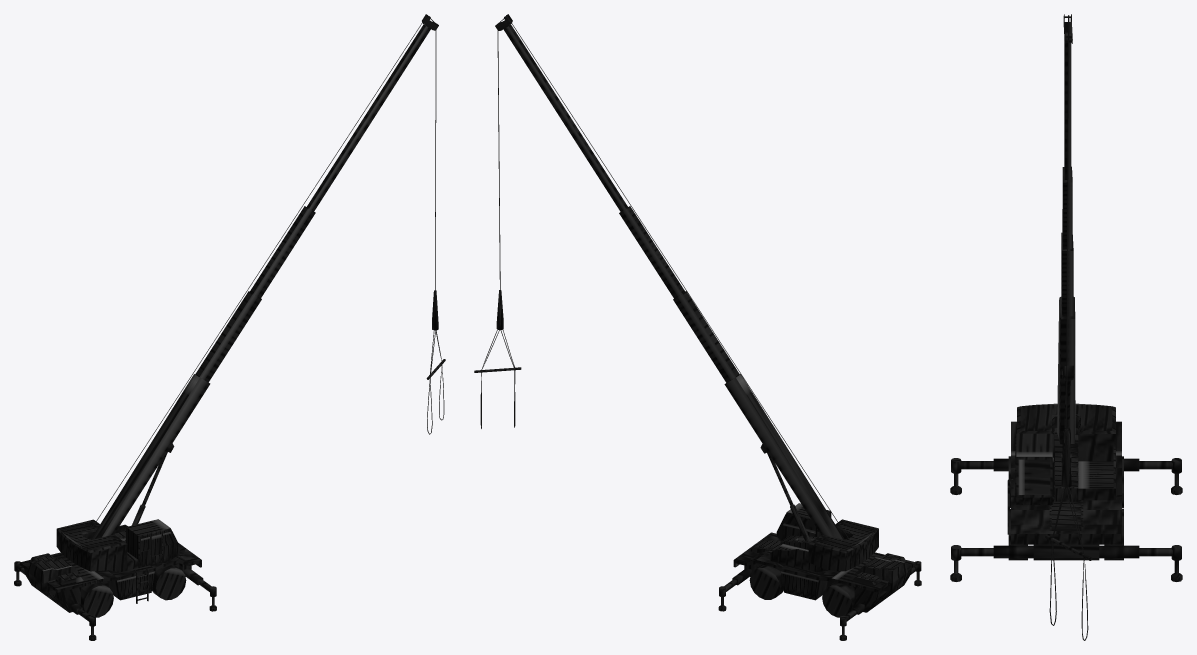
Rendered from Crane.obj.
3 renders of one model, left to right at view 1: azimuth 30°, elevation 25°; view 2: azimuth 150°, elevation 25°; view 3: azimuth 270°, elevation 25°, orthographic. The views are drawn at different scales.
Visible parts, largest first — view 1: Crane; view 2: Crane; view 3: Crane.
Boxes of the visible parts, x1=… form: Crane: x1=14, y1=14, x2=445, y2=640; Crane: x1=474, y1=14, x2=921, y2=640; Crane: x1=950, y1=14, x2=1182, y2=640.
Bounding box in the file's own units: 19.3 × 22.33 × 6.29.
